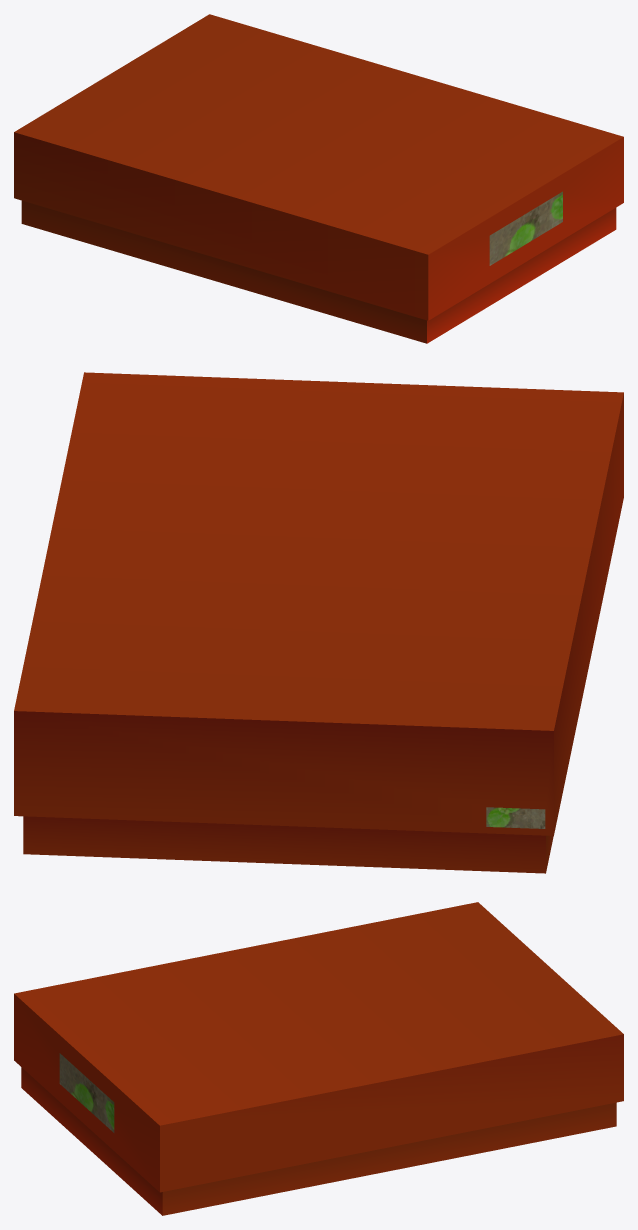
3 renders of one model, top to bottom at view 1: azimuth 30°, elevation 25°; view 2: azimuth 150°, elevation 25°; view 3: azimuth 270°, elevation 25°, orthographic. The views are drawn at different scales.
Visible parts, largest first — view 1: Joint_0_Object_0, Joint_0_Object_1; view 2: Joint_0_Object_0, Joint_0_Object_1; view 3: Joint_0_Object_0, Joint_0_Object_1.
Boxes of the visible parts, x1,y1,x2,y2 form: Joint_0_Object_0: (14,14,623,343); Joint_0_Object_1: (489,191,562,265); Joint_0_Object_0: (14,372,623,873); Joint_0_Object_1: (486,807,545,828); Joint_0_Object_0: (14,902,623,1215); Joint_0_Object_1: (59,1053,114,1132).
Size of the model in its own units: 951 by 185 by 1096.
